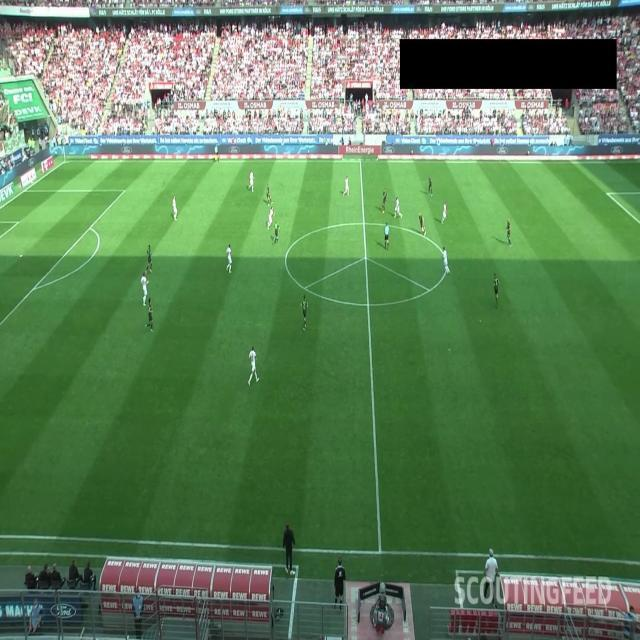player: (248, 346, 260, 386), (140, 270, 149, 307), (301, 293, 309, 332), (493, 273, 500, 309), (146, 302, 154, 332), (442, 246, 450, 275), (146, 245, 153, 274), (505, 217, 512, 246), (419, 212, 427, 237), (267, 205, 275, 229), (171, 195, 178, 221), (226, 244, 232, 274), (394, 197, 402, 219), (382, 189, 388, 214), (274, 220, 280, 245), (343, 176, 350, 197), (441, 201, 447, 225), (249, 169, 255, 192), (267, 183, 272, 203), (428, 176, 433, 196)
referee: (385, 221, 390, 250), (214, 144, 219, 163)
